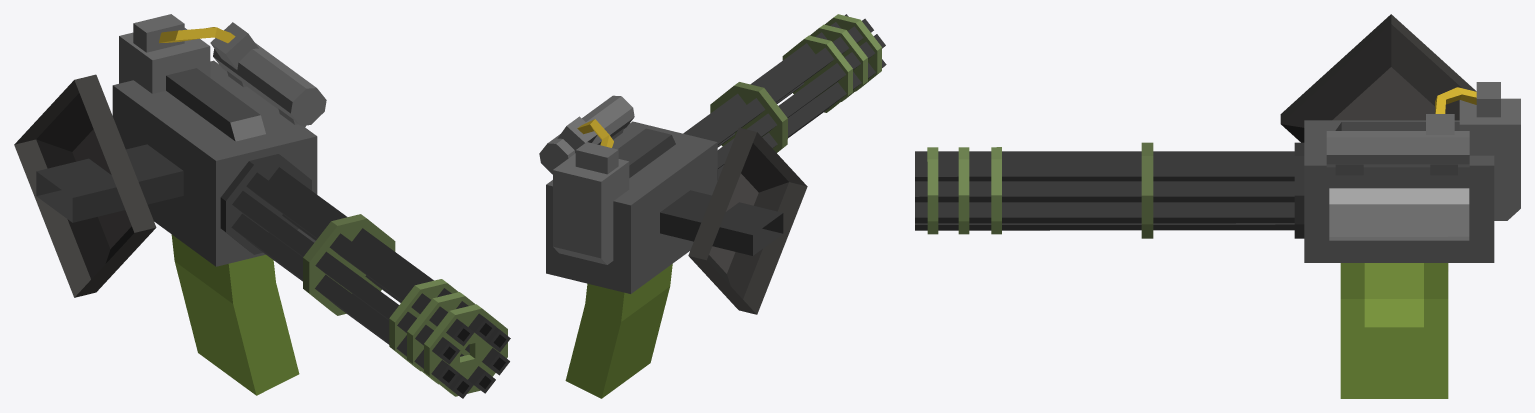
The model's file is bu benim mibigun.fbx.
3 renders of one model, left to right at view 1: azimuth 30°, elevation 25°; view 2: azimuth 150°, elevation 25°; view 3: azimuth 270°, elevation 25°, orthographic. The views are drawn at different scales.
Visible parts, largest first — view 1: Minigun4, Minigun2_1; view 2: Minigun4, Minigun2_1; view 3: Minigun4, Minigun2_1.
Boxes of the visible parts, box(x1,y1,x2,y2) form: Minigun4: box(36, 14, 510, 398); Minigun2_1: box(14, 74, 156, 297); Minigun4: box(539, 14, 886, 398); Minigun2_1: box(688, 127, 807, 314); Minigun4: box(915, 82, 1520, 398); Minigun2_1: box(1280, 14, 1476, 142).
Bounding box in the file's own units: 35.9 × 48.99 × 87.77.
Materials: 1 (1 with a texture image).
